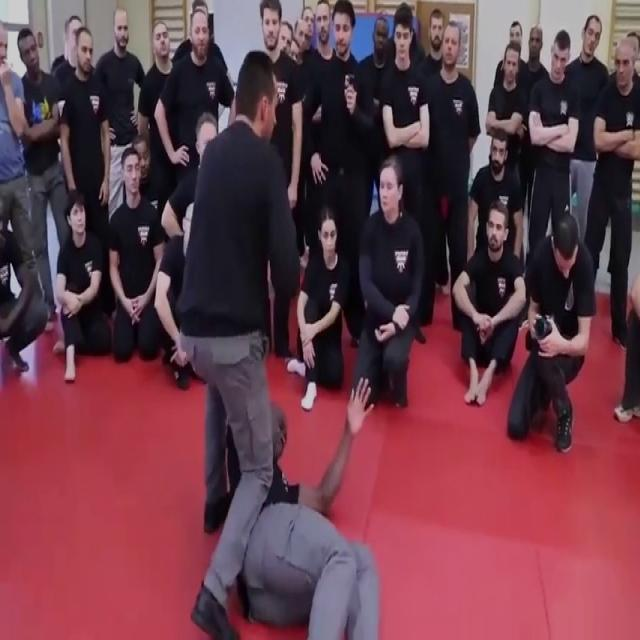fight: (176, 49, 386, 639)
non-fight: (573, 22, 639, 426), (0, 20, 57, 385), (444, 195, 534, 412), (351, 158, 425, 406), (98, 145, 164, 376)
